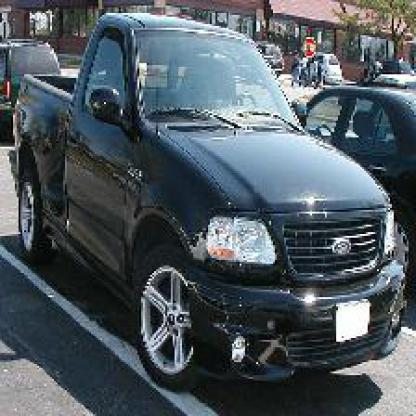not_emergency: (9, 13, 401, 375)
